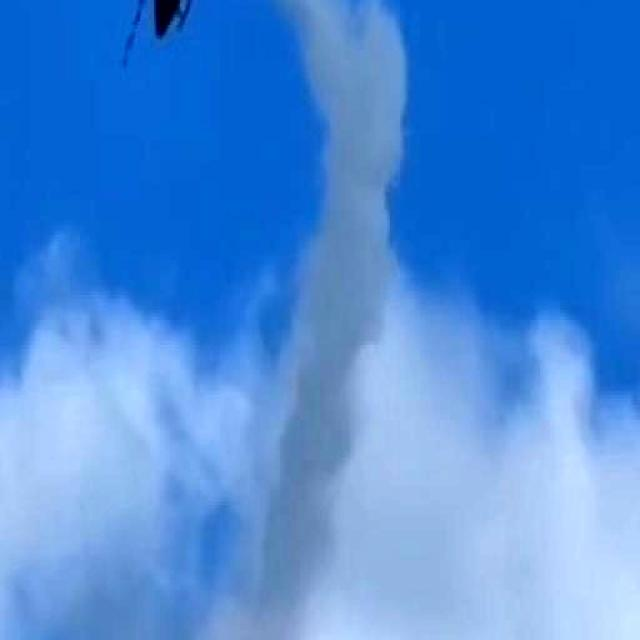drone: (118, 0, 249, 80)
